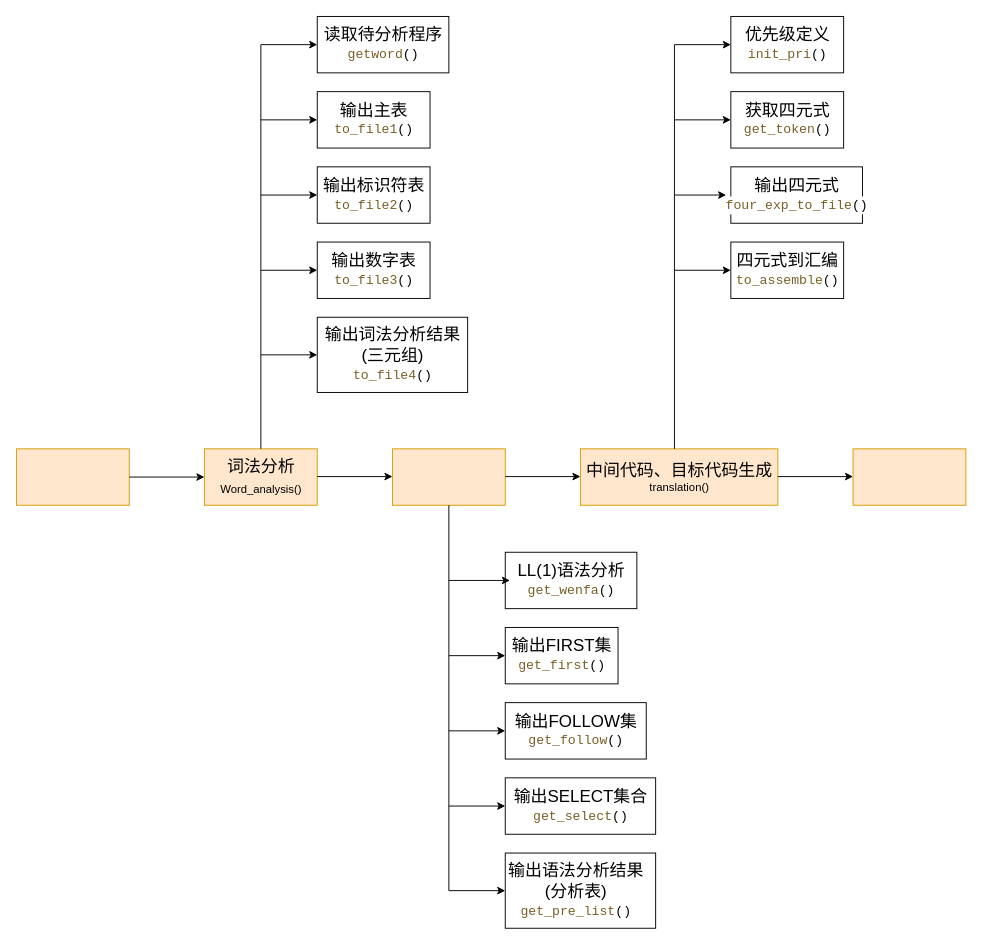
This 982x945 diagram has some shape labels left out. The shapes that lost their labels are listed below. From the top down, each one's centre as x and y in pixels, then its label:
point 72,476: 程序开始 START
point 448,476: 语法分析 Grammar_analysis()
point 909,476: 程序结束 END
